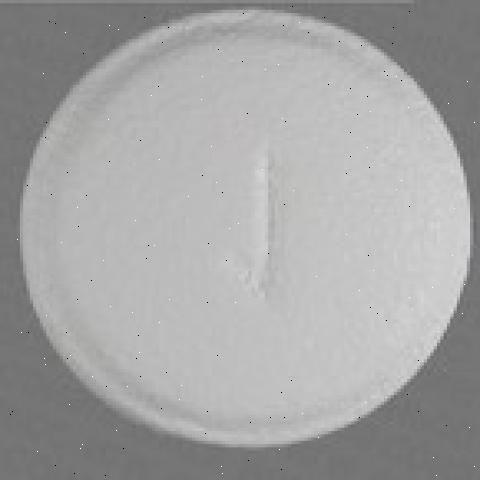Pill: (10, 0, 474, 478)
